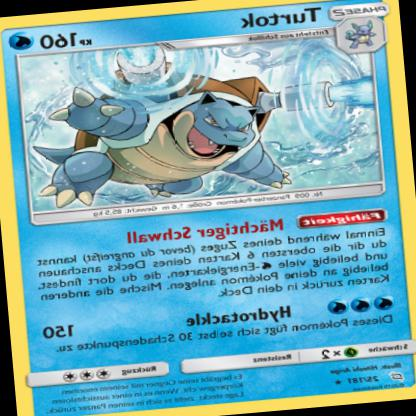Blastoise: (29, 39, 347, 214)
